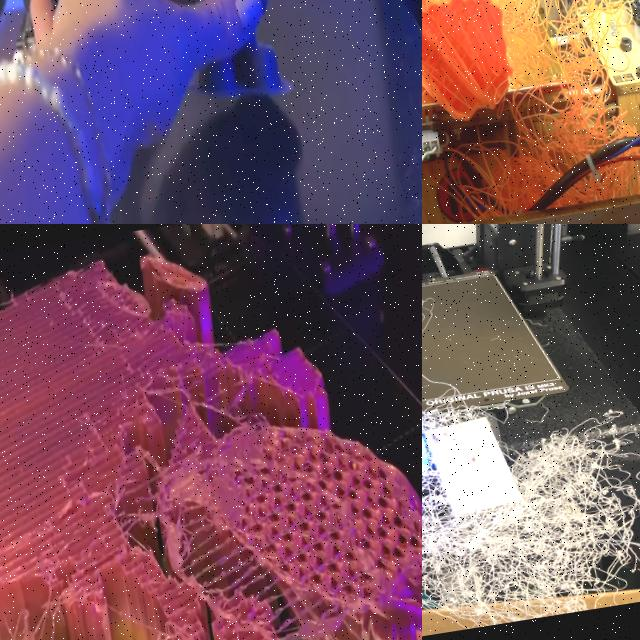spaghetti: (422, 319, 640, 612), (422, 0, 640, 224), (113, 489, 178, 554), (0, 598, 84, 640), (143, 593, 218, 640), (132, 428, 170, 487)
